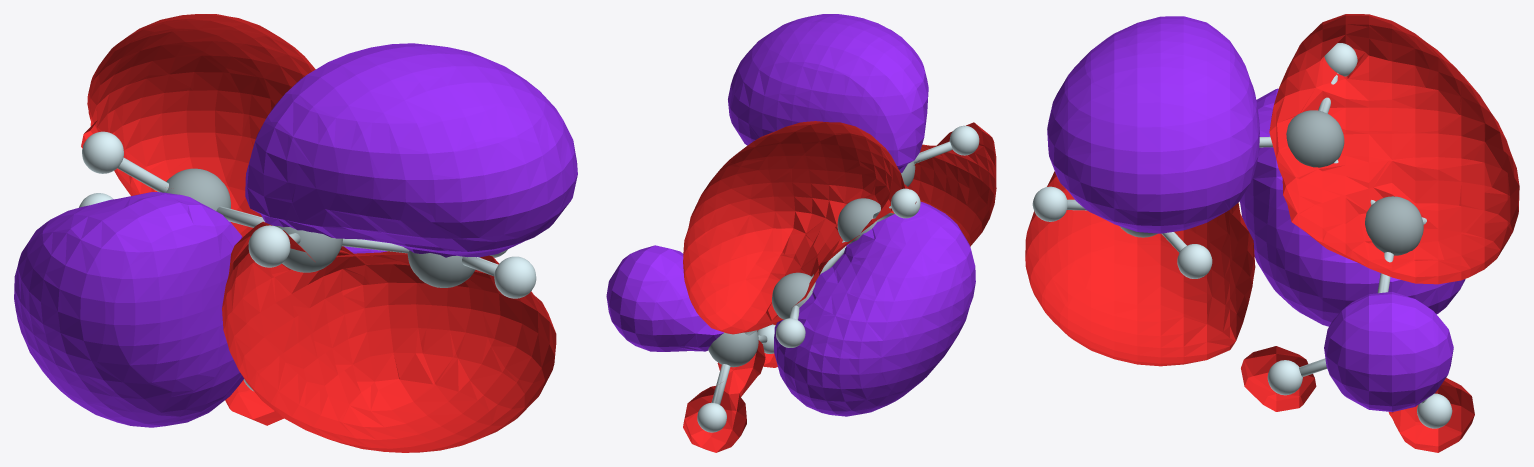
3 views of the same model, side by side, from view 1: azimuth 30°, elevation 25°; view 2: azimuth 150°, elevation 25°; view 3: azimuth 270°, elevation 25° (orthographic). The views are drawn at different scales.
Parts seen in each view (by area): view 1: Renderer Node; view 2: Renderer Node; view 3: Renderer Node.
Part boxes in pixels (left/top/right/bottom): Renderer Node: left=14, top=14, right=577, bottom=452; Renderer Node: left=606, top=14, right=996, bottom=452; Renderer Node: left=1025, top=14, right=1519, bottom=452.
Bounding box in the file's own units: 4.99 × 5.09 × 5.61.
